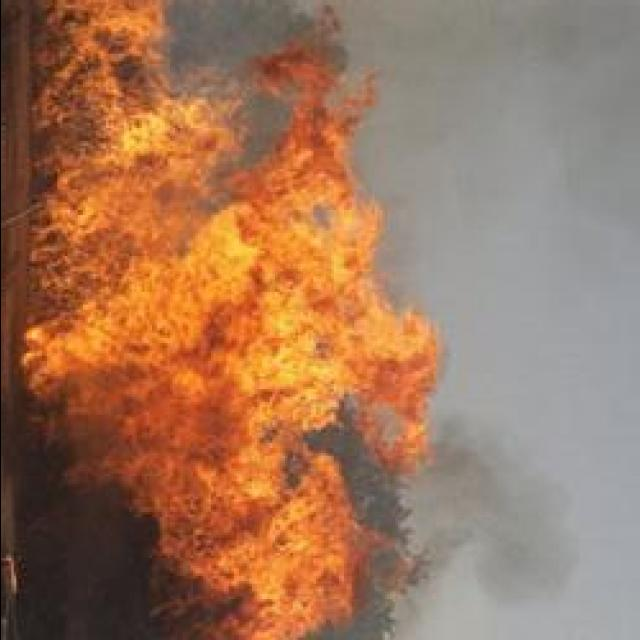fire: (201, 264, 335, 396), (138, 386, 272, 506), (83, 252, 209, 372), (218, 496, 334, 608), (220, 178, 314, 284), (64, 82, 164, 176), (313, 319, 422, 392), (12, 317, 100, 372)
smoke: (444, 437, 568, 608), (409, 0, 635, 77), (391, 65, 479, 163)
